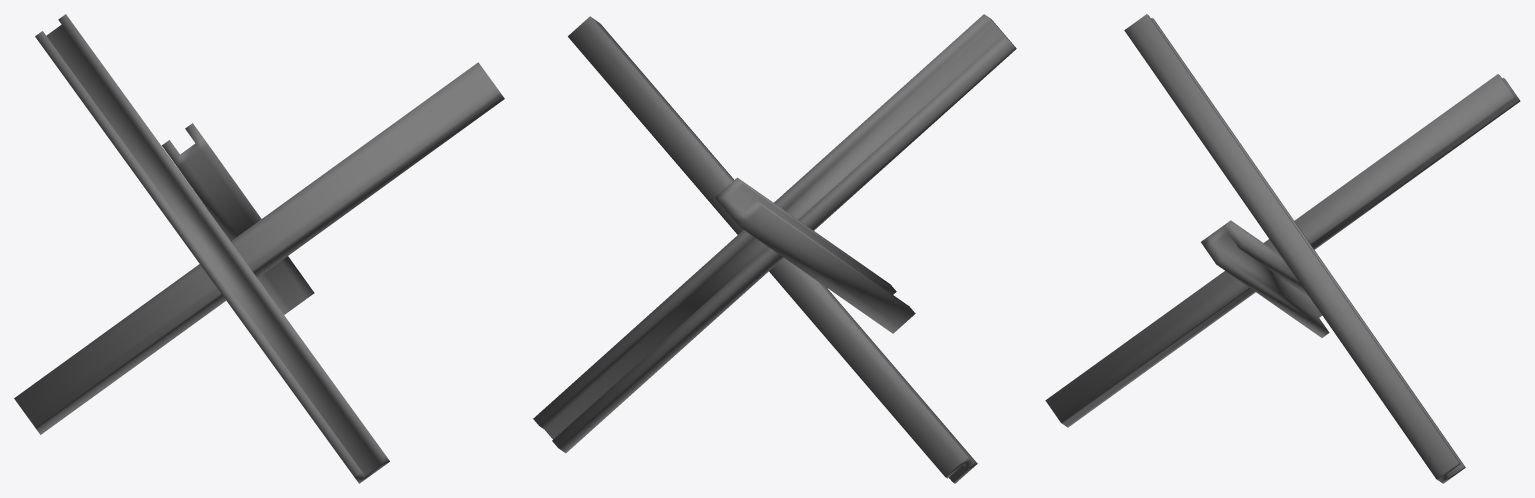
The model's file is spike.fbx.
3 renders of one model, left to right at view 1: azimuth 30°, elevation 25°; view 2: azimuth 150°, elevation 25°; view 3: azimuth 270°, elevation 25°, orthographic. The views are drawn at different scales.
Parts seen in each view (by area): view 1: spike; view 2: spike; view 3: spike.
Part boxes in pixels (<box>): spike: <box>14,14,504,483</box>; spike: <box>533,14,1016,483</box>; spike: <box>1045,14,1520,483</box>.
Size of the model in its own units: 62.26 by 50.28 by 61.13.
1 material, 1 textured.
